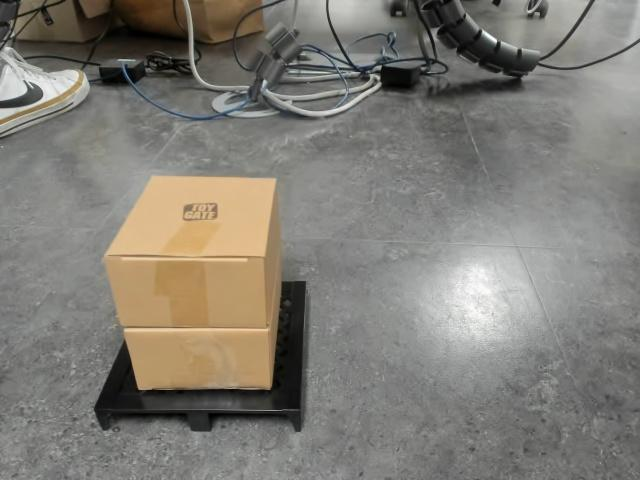box: (93, 173, 314, 434)
